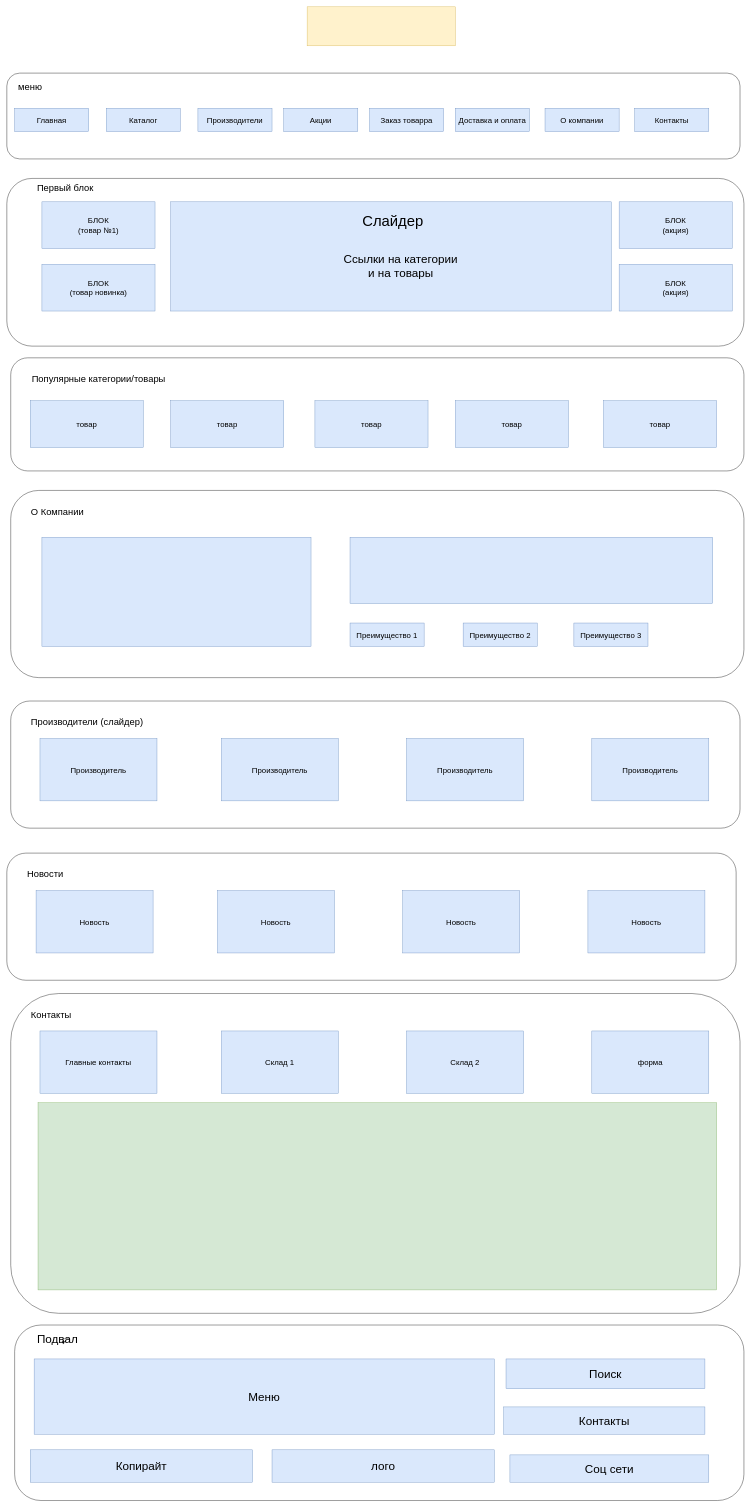
The diagram is 751 pixels wide and 1507 high, and some of its shapes have lost their labels. The shapes that lost their labels are listed below. From the top down, each one's centre as x and y in pixels, then its label:
point 381,26: Электротовары
point 531,570: Текст
point 176,591: Картинка
point 377,1196: Карта
